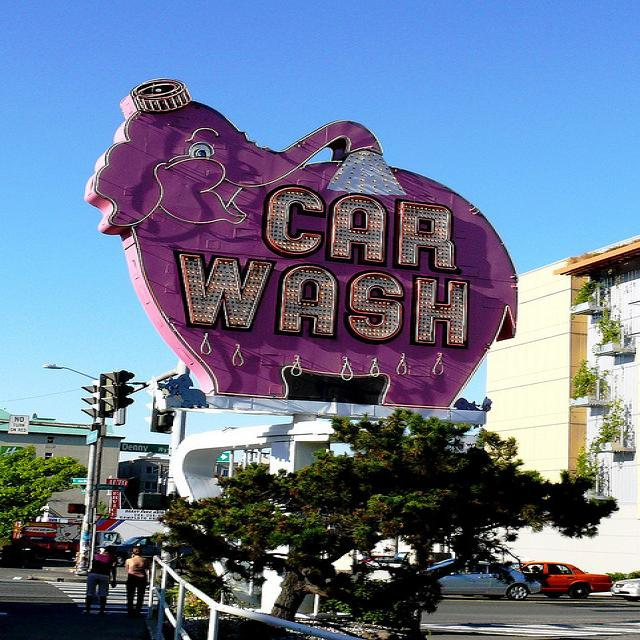Vehicle: (426, 558, 541, 602), (509, 561, 611, 600), (610, 578, 640, 602)
